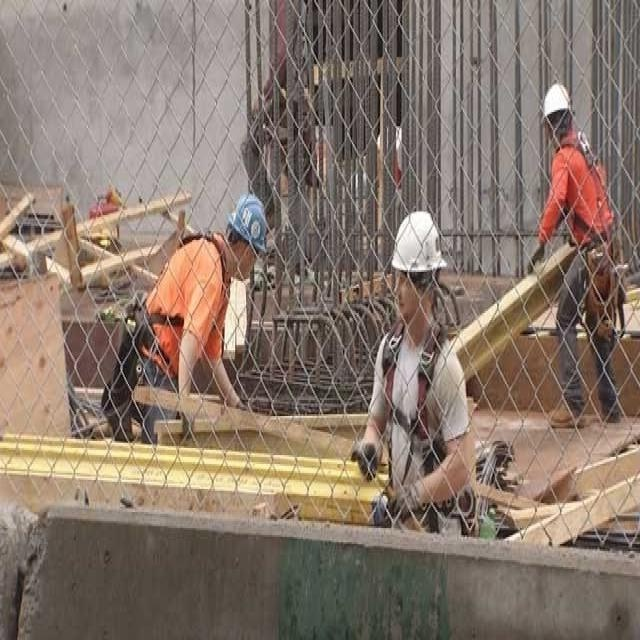Con_Casco: (395, 212, 442, 312), (229, 190, 269, 281), (540, 81, 572, 143)
